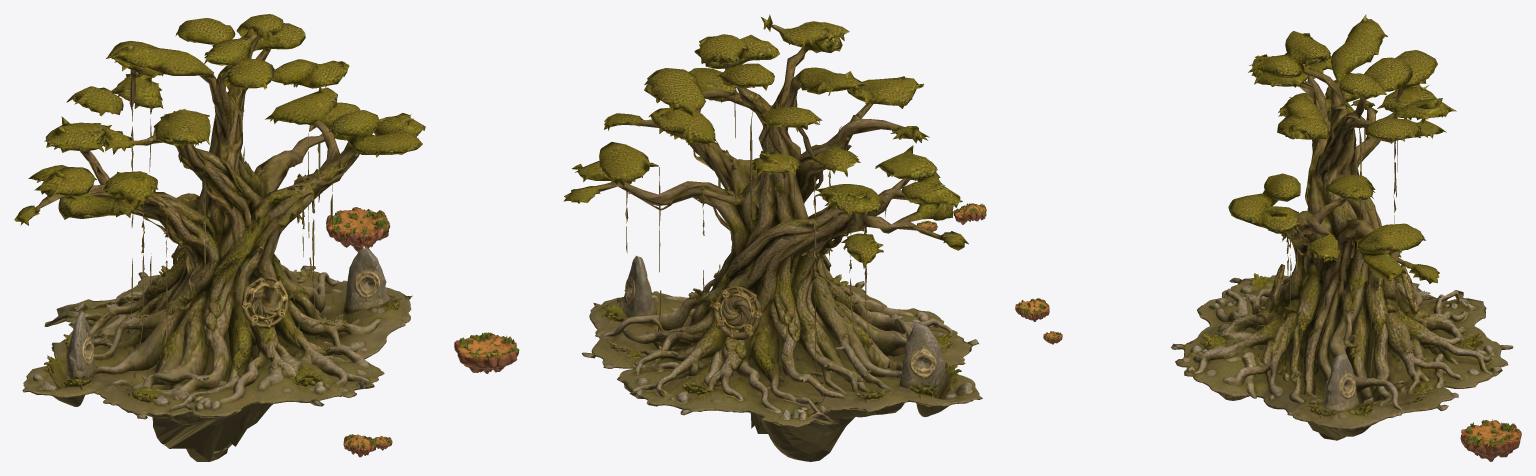
File: 02-ancient-tree.glb
The picture shows the model from 3 angles, left to right: view 1: azimuth 30°, elevation 25°; view 2: azimuth 150°, elevation 25°; view 3: azimuth 270°, elevation 25°; orthographic projection. The views are drawn at different scales.
Visible parts, largest first — view 1: tripo_node_1417d2f9-6a41-4c19-8d22-cc2a3ca2383e, tripo_node_7f0ab475-0fcf-4e6c-9da8-ec6ed68006bb.002; view 2: tripo_node_1417d2f9-6a41-4c19-8d22-cc2a3ca2383e, tripo_node_7f0ab475-0fcf-4e6c-9da8-ec6ed68006bb.002; view 3: tripo_node_1417d2f9-6a41-4c19-8d22-cc2a3ca2383e, tripo_node_7f0ab475-0fcf-4e6c-9da8-ec6ed68006bb.002.
Part boxes in pixels (box(x1,y1,x2,y2)): tripo_node_1417d2f9-6a41-4c19-8d22-cc2a3ca2383e: box(14, 14, 425, 461); tripo_node_7f0ab475-0fcf-4e6c-9da8-ec6ed68006bb.002: box(326, 207, 392, 457); tripo_node_1417d2f9-6a41-4c19-8d22-cc2a3ca2383e: box(563, 14, 982, 461); tripo_node_7f0ab475-0fcf-4e6c-9da8-ec6ed68006bb.002: box(454, 203, 986, 373); tripo_node_1417d2f9-6a41-4c19-8d22-cc2a3ca2383e: box(1171, 14, 1513, 440); tripo_node_7f0ab475-0fcf-4e6c-9da8-ec6ed68006bb.002: box(1015, 298, 1521, 461).
Size of the model in its own units: 1.29 by 1.2 by 1.35.
Materials: 2 (2 with a texture image).
